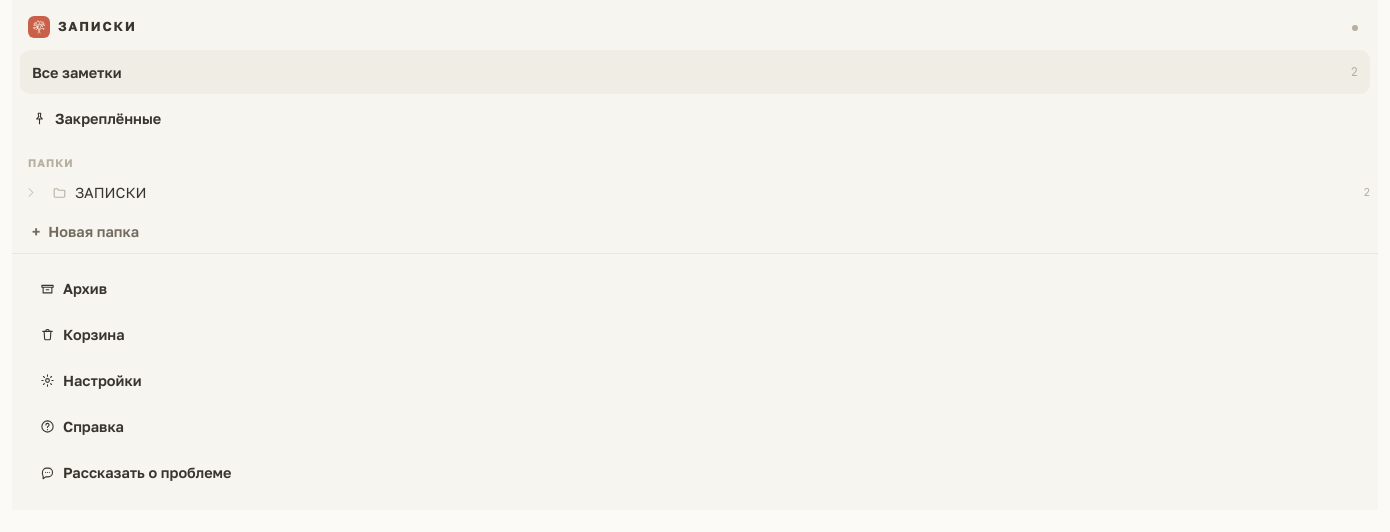
Test: дорога к подпапке › шеврон раскрывает папку и оставляет человека в библиотеке
expect the text "ДОРАБОТКИ" is not shown: met
Click the element with class "z-tree__chevron" at (30,192), box [24,186,36,199]
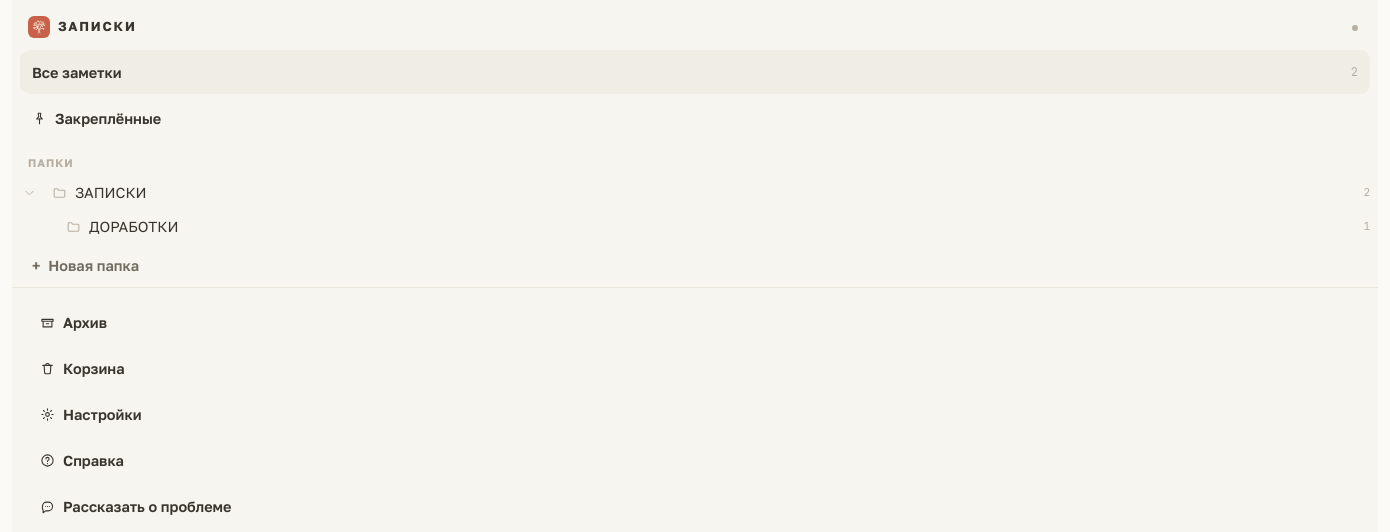
expect the text "ДОРАБОТКИ" is shown: met, box [89,218,178,235]
Click the 1st element with class "z-tree__chevron" at (30,192), box [24,186,36,199]
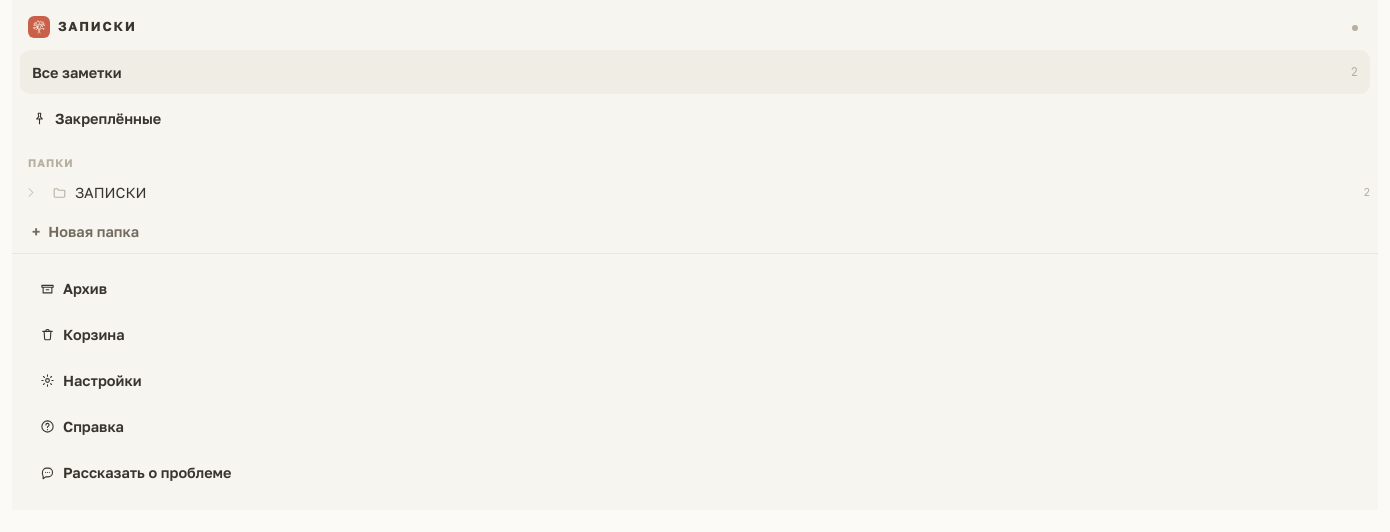
expect the list item "ДОРАБОТКИ" is gone: met
